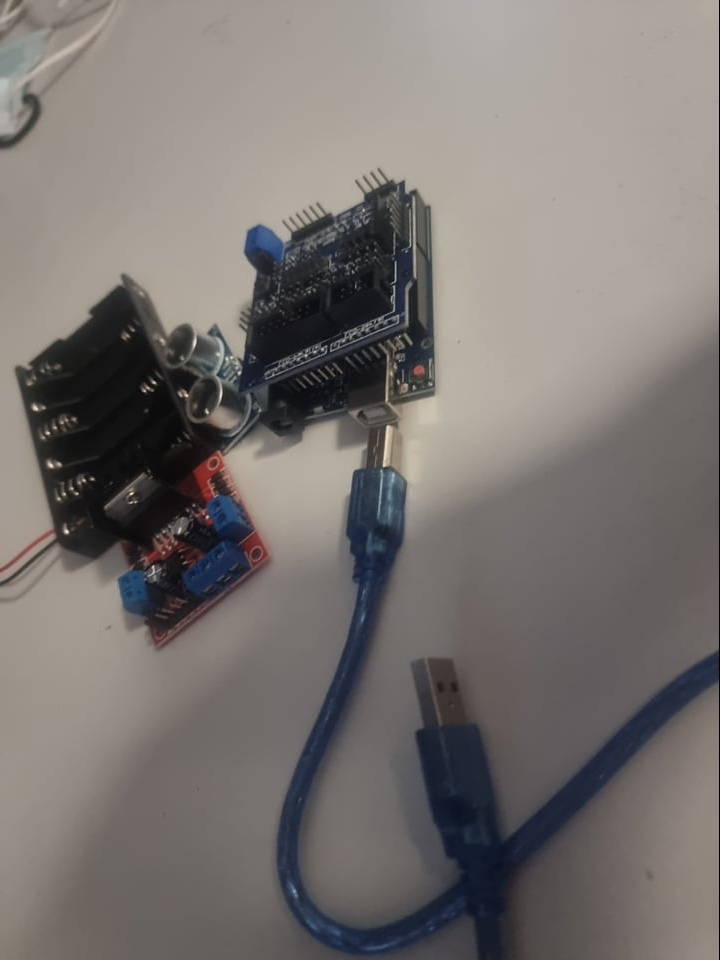5V EXPANSION: (237, 176, 404, 364)
BATTERY BOX: (11, 273, 198, 551)
MOTOR: (96, 451, 271, 648)
SENSOR: (165, 317, 250, 447)
UNO R3: (258, 349, 451, 441)
